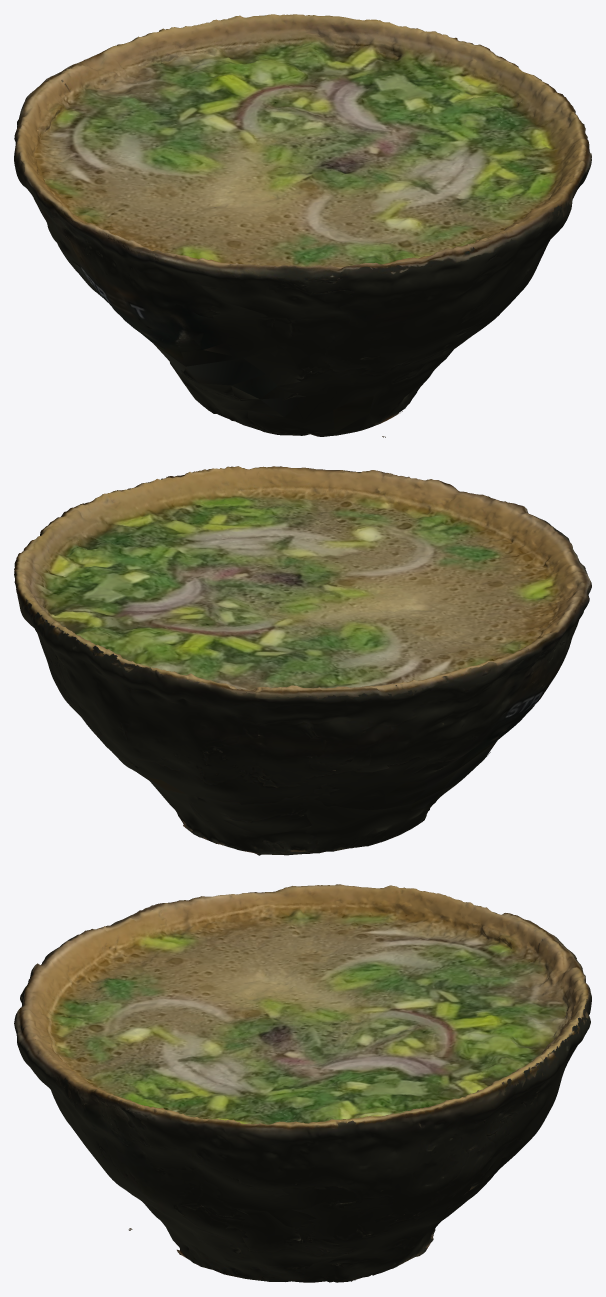
Rendered from phobo_scaled.glb.
The picture shows the model from 3 angles, top to bottom: view 1: azimuth 30°, elevation 25°; view 2: azimuth 150°, elevation 25°; view 3: azimuth 270°, elevation 25°; orthographic projection.
Parts seen in each view (by area): view 1: Mesh_0_Part_0; view 2: Mesh_0_Part_0; view 3: Mesh_0_Part_0.
Part boxes in pixels (<box>): Mesh_0_Part_0: <box>14,14,591,437</box>; Mesh_0_Part_0: <box>14,466,591,855</box>; Mesh_0_Part_0: <box>14,884,591,1282</box>.
Bounding box in the file's own units: 0.3582 × 0.1746 × 0.3589.
1 material, 1 textured.
